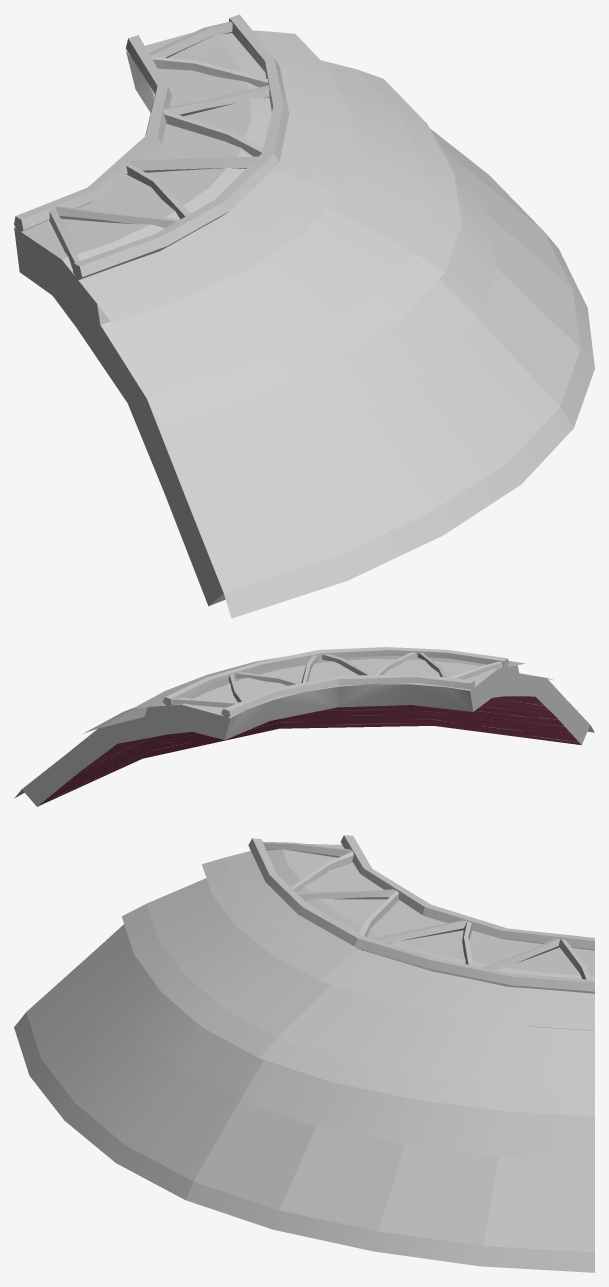
Rendered from SM_Bld_Roof_Thatch_Convex_Corner_02.fbx.
3 renders of one model, top to bottom at view 1: azimuth 30°, elevation 25°; view 2: azimuth 150°, elevation 25°; view 3: azimuth 270°, elevation 25°, orthographic. The views are drawn at different scales.
Parts seen in each view (by area): view 1: SM_Bld_Roof_Thatch_Convex_Corner_02; view 2: SM_Bld_Roof_Thatch_Convex_Corner_02; view 3: SM_Bld_Roof_Thatch_Convex_Corner_02.
Boxes of the visible parts, x1,y1,x2,y2 form: SM_Bld_Roof_Thatch_Convex_Corner_02: (14,14,594,618); SM_Bld_Roof_Thatch_Convex_Corner_02: (14,647,594,806); SM_Bld_Roof_Thatch_Convex_Corner_02: (14,835,594,1272).
Size of the model in its own units: 606 by 226 by 606.
